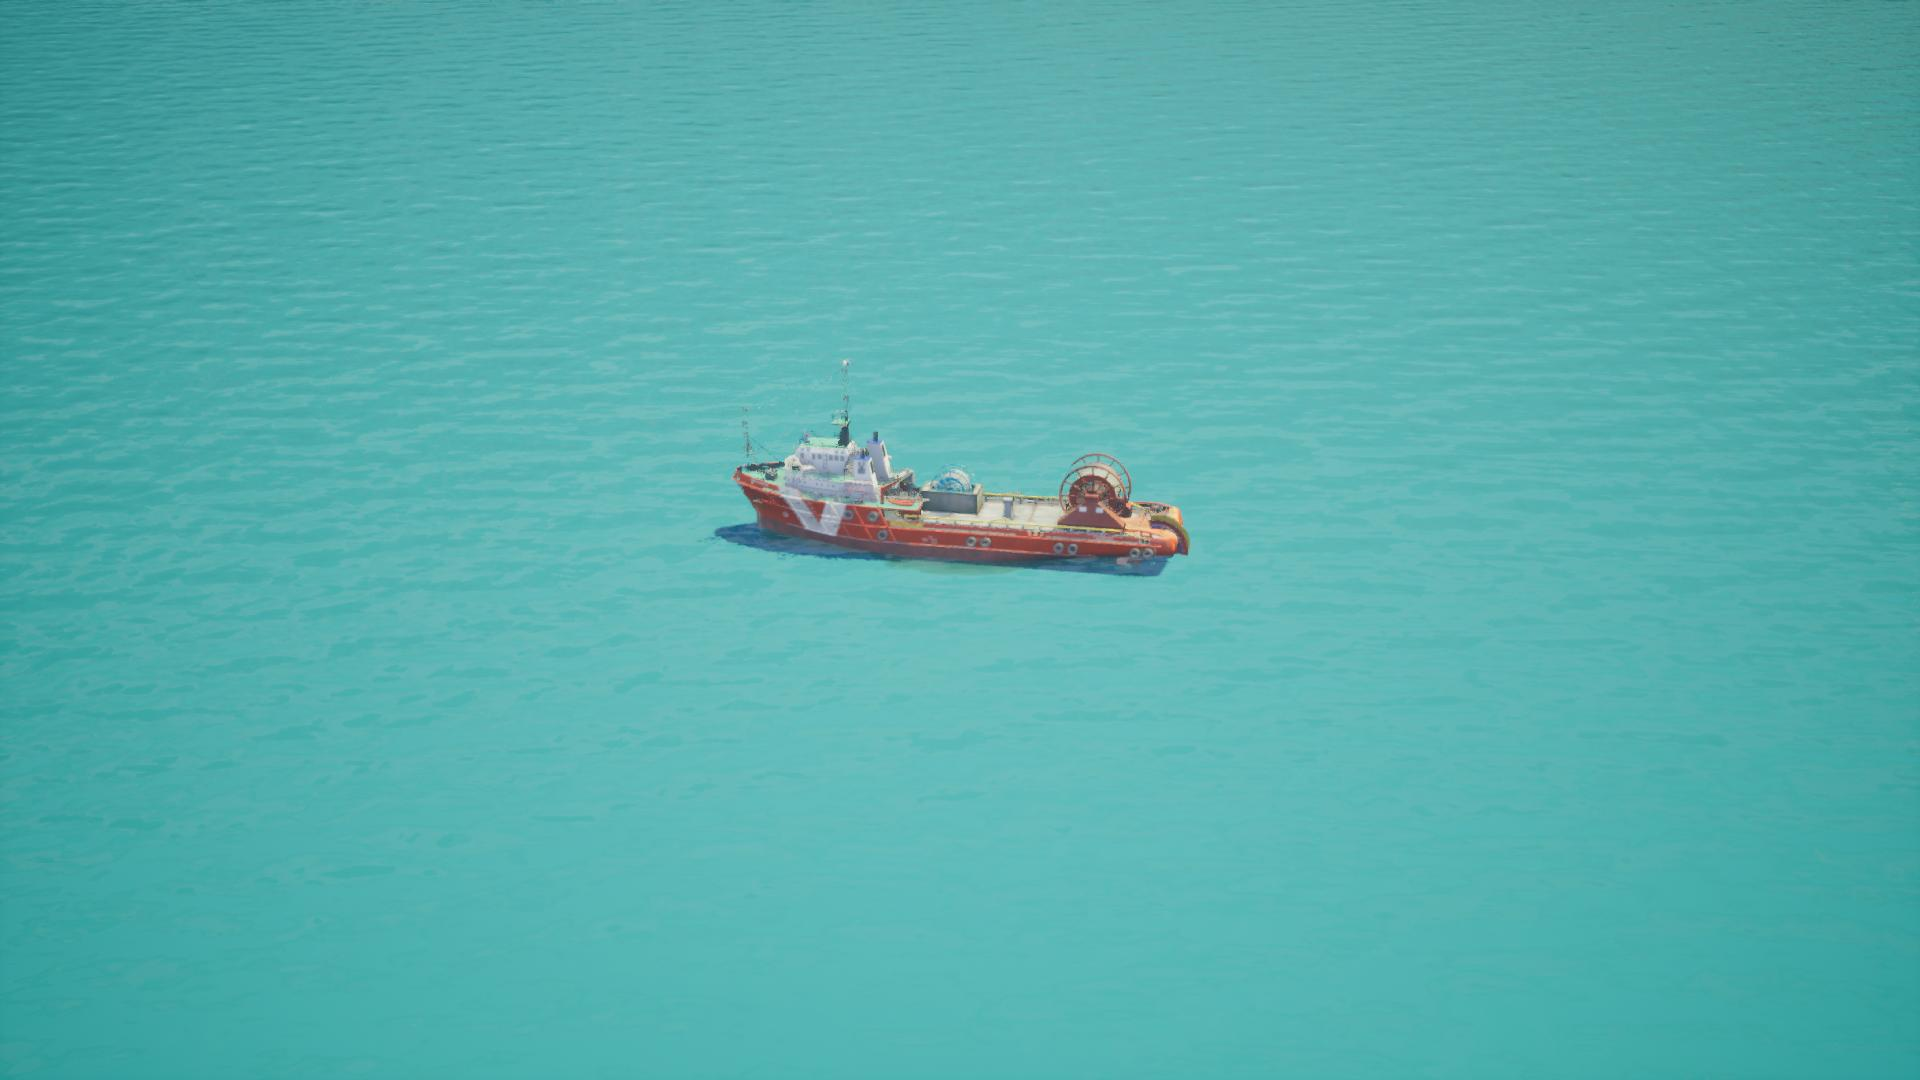Tug Boat: (727, 361, 1198, 579)
